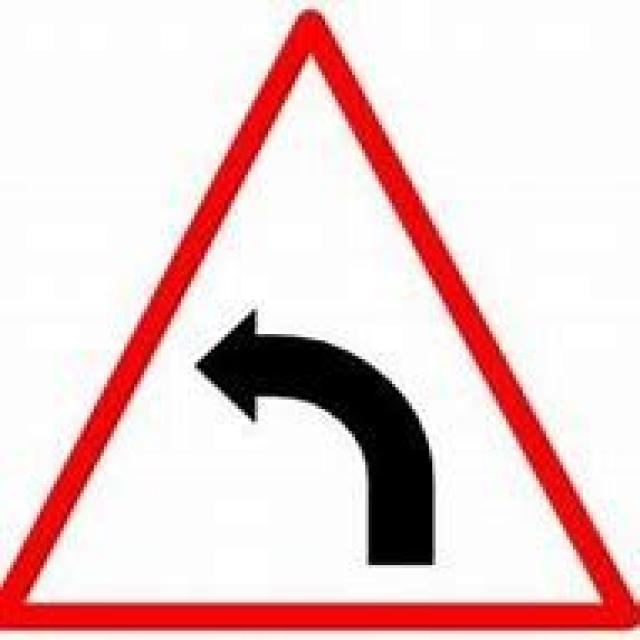LEFT_HAND_CURVE: (0, 11, 640, 634)
